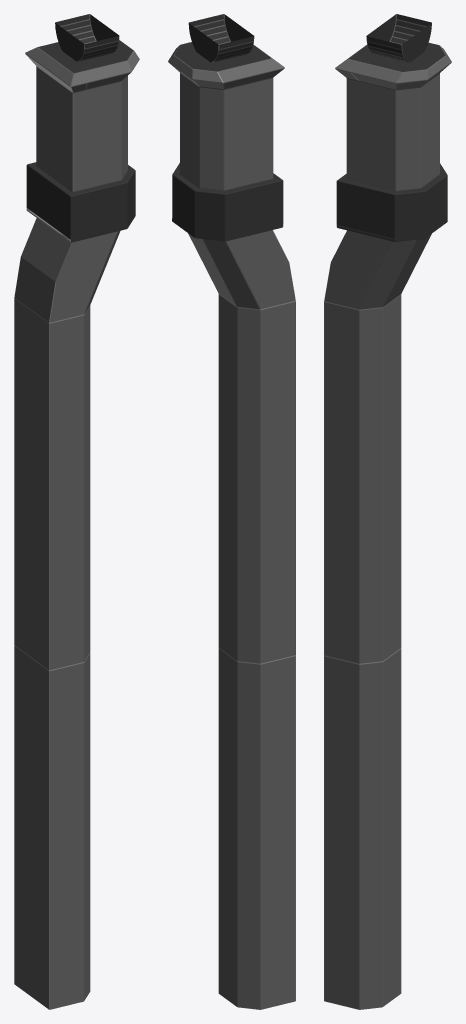
Rendered from Sidepillar1.fbx.
The picture shows the model from 3 angles, left to right: view 1: azimuth 30°, elevation 25°; view 2: azimuth 210°, elevation 25°; view 3: azimuth 330°, elevation 25°; orthographic projection.
Parts seen in each view (by area): view 1: Cylinder.001; view 2: Cylinder.001; view 3: Cylinder.001.
Part boxes in pixels (box(x1,y1,x2,y2)): Cylinder.001: box(14, 14, 139, 1009); Cylinder.001: box(168, 14, 295, 1009); Cylinder.001: box(324, 14, 451, 1009).
Bounding box in the file's own units: 344 × 3258 × 286.
